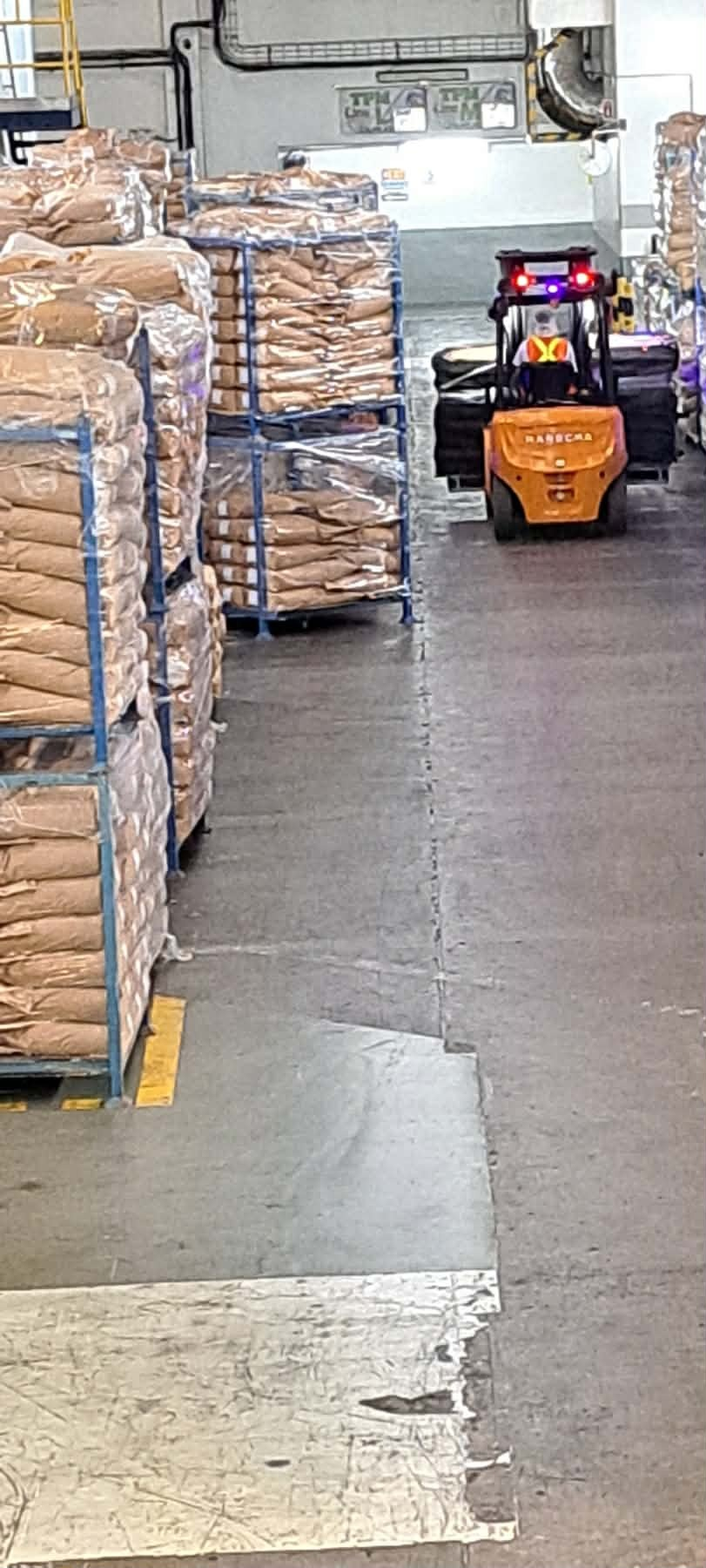forklift: (412, 121, 642, 562)
